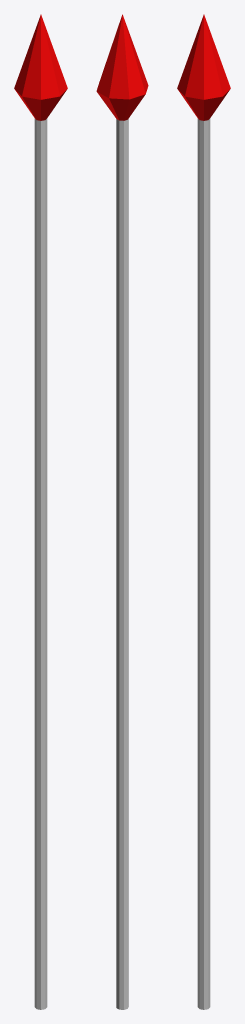
The model's file is Lanza.glb.
3 renders of one model, left to right at view 1: azimuth 90°, elevation 25°; view 2: azimuth 150°, elevation 25°; view 3: azimuth 270°, elevation 25°, orthographic.
Visible parts, largest first — view 1: Lanza; view 2: Lanza; view 3: Lanza.
Boxes of the visible parts, x1,y1,x2,y2 form: Lanza: [14, 14, 67, 1009]; Lanza: [96, 14, 148, 1009]; Lanza: [177, 14, 230, 1009].
Bounding box in the file's own units: 0.1967 × 4 × 0.1967.
